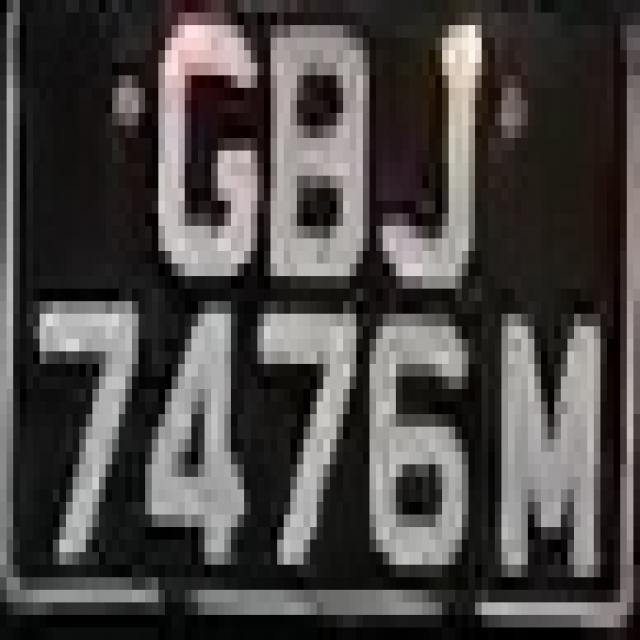4: (112, 276, 257, 590)
6: (356, 288, 482, 590)
7: (6, 226, 126, 602), (251, 238, 356, 578)
B: (244, 25, 383, 301)
G: (132, 0, 251, 314)
J: (383, 25, 508, 301)
M: (495, 251, 627, 602)
